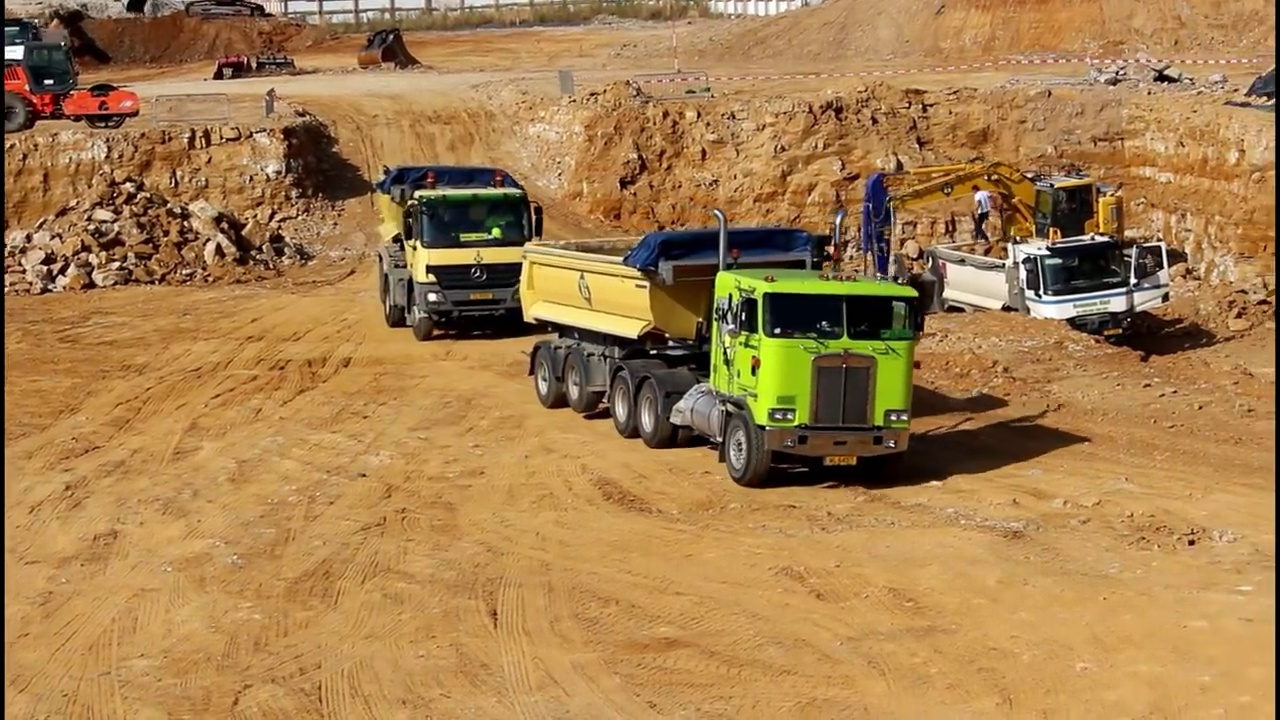compactor: (1, 41, 144, 136)
excavator: (857, 151, 1158, 323)
truck: (519, 205, 936, 493), (368, 157, 550, 344), (931, 228, 1177, 351), (2, 16, 78, 99)
worker: (964, 179, 999, 257)
